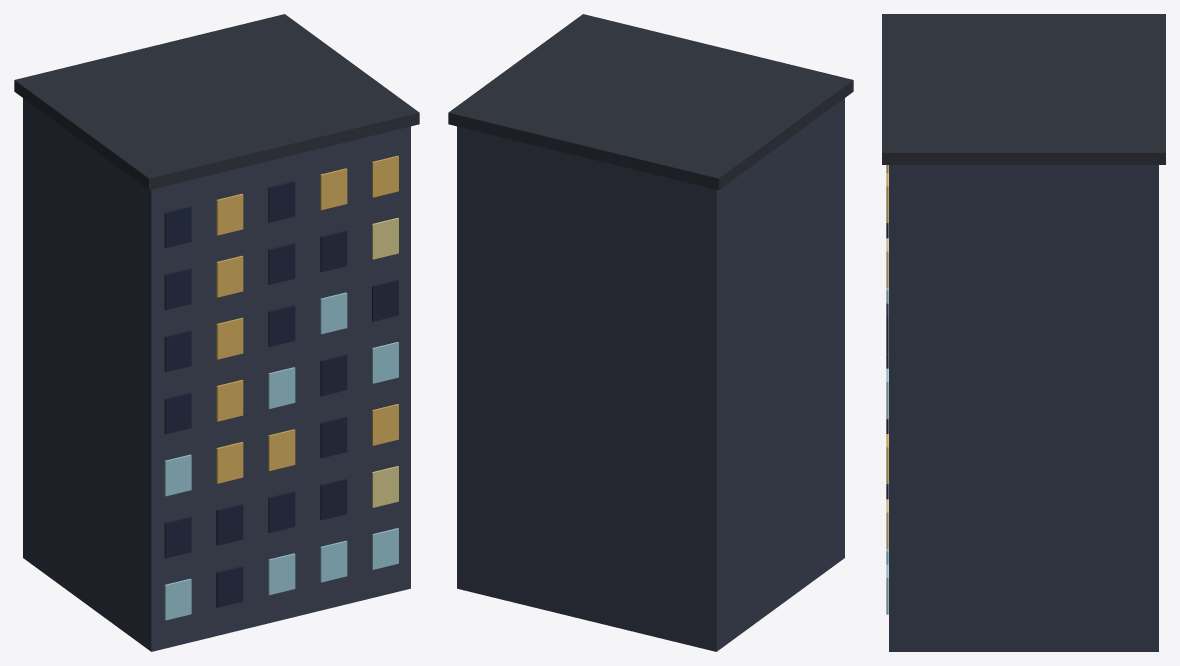
File: city_block_0.glb
3 views of the same model, side by side, from view 1: azimuth 30°, elevation 25°; view 2: azimuth 150°, elevation 25°; view 3: azimuth 270°, elevation 25° (orthographic). The views are drawn at different scales.
Parts seen in each view (by area): view 1: CityBlock; view 2: CityBlock; view 3: CityBlock.
Part boxes in pixels (x1,y1,x2,y2): CityBlock: [14, 14, 419, 651]; CityBlock: [448, 14, 853, 651]; CityBlock: [882, 14, 1165, 651].
Bounding box in the file's own units: 7.3 × 12.3 × 6.3.
